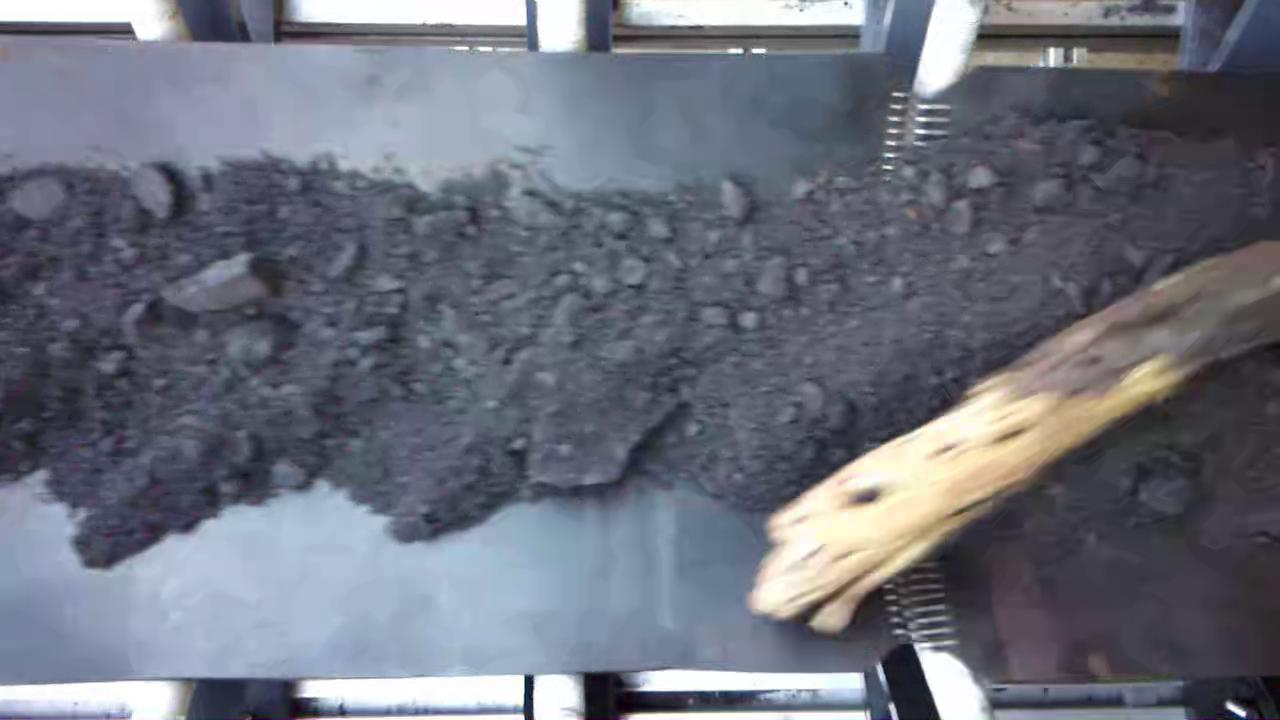conveyor: (5, 70, 1280, 673)
